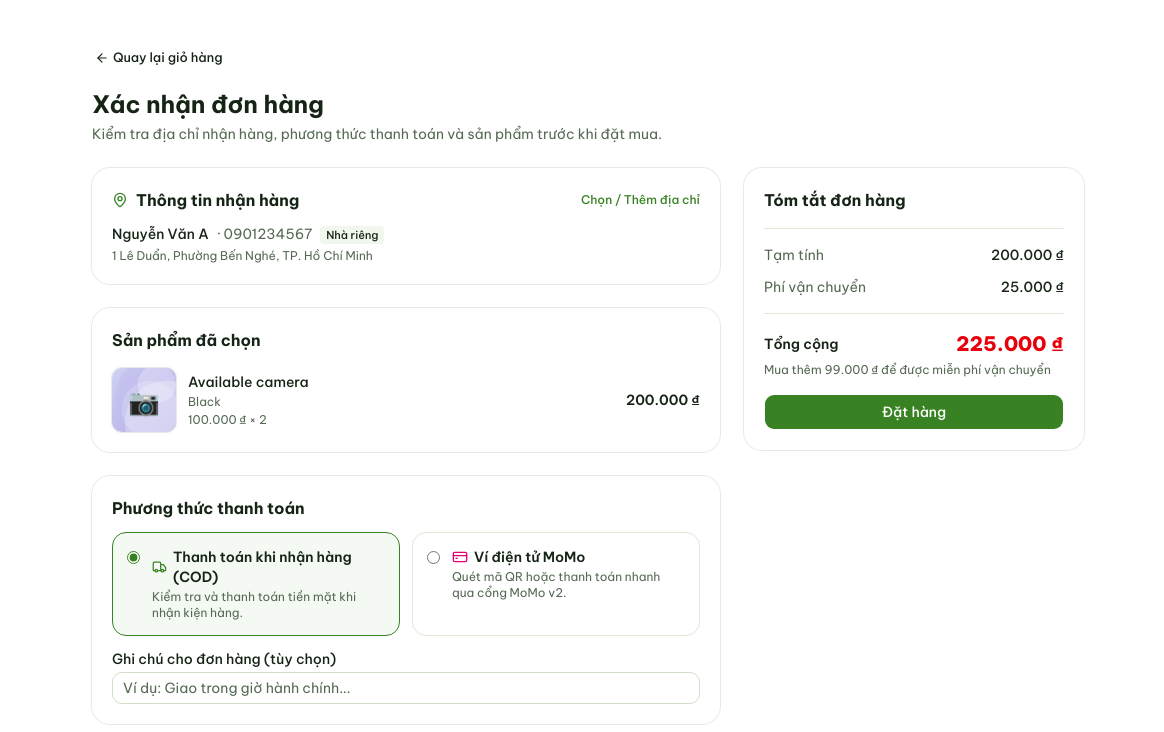
Test: OrderPreviewPage › submits COD order with SKU snapshot and navigates to /don-hang/:orderId?placed=1 while refreshing cart
expect the text "1 Lê Duẩn, Phường Bến Nghé, TP. Hồ Chí Minh" is shown: met, box 112,248 -> 373,263
Click the button "Đặt hàng".
click(914, 412)  # box 764,394 -> 1064,430
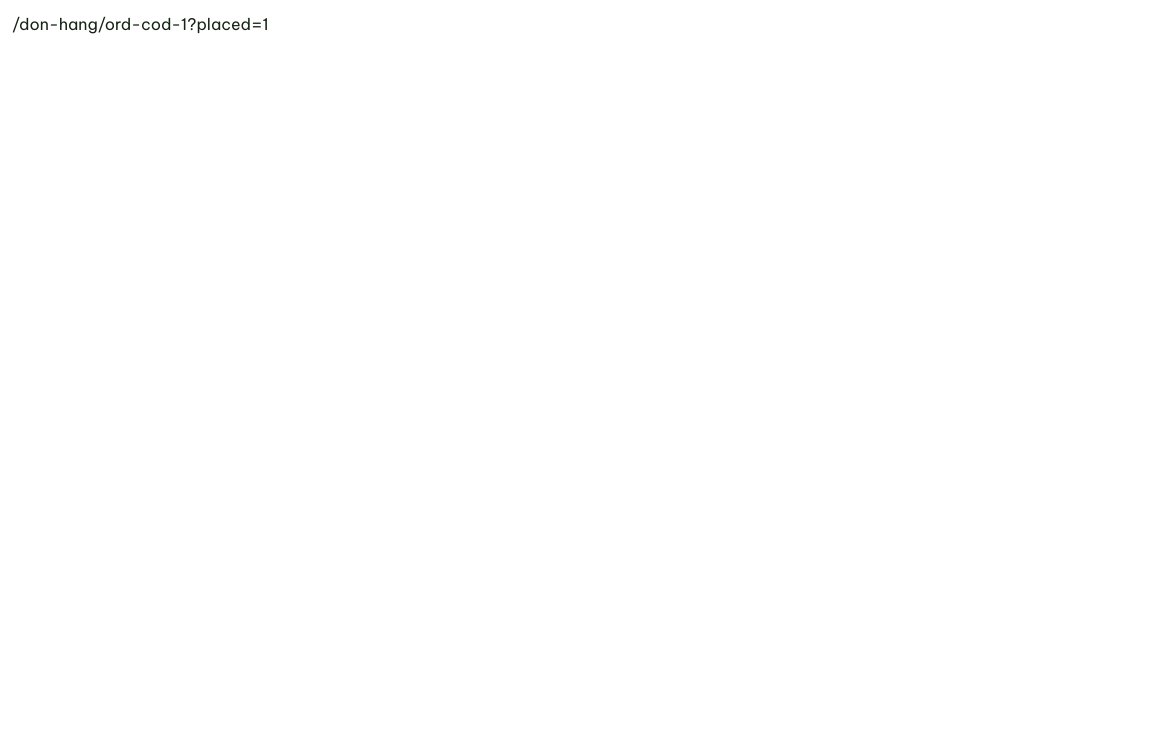
expect the text with test id "location-probe" reads "/don-hang/ord-cod-1?placed=1": met, box 12,14 -> 269,34
